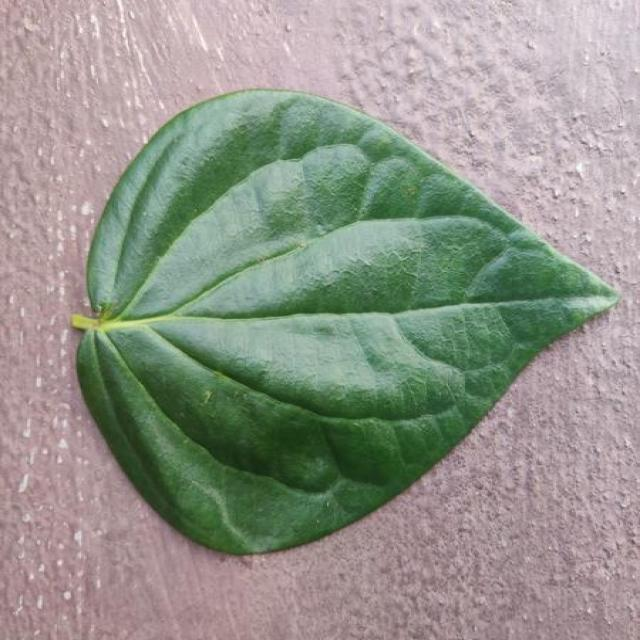betel: (2, 0, 638, 639), (72, 90, 617, 553)
